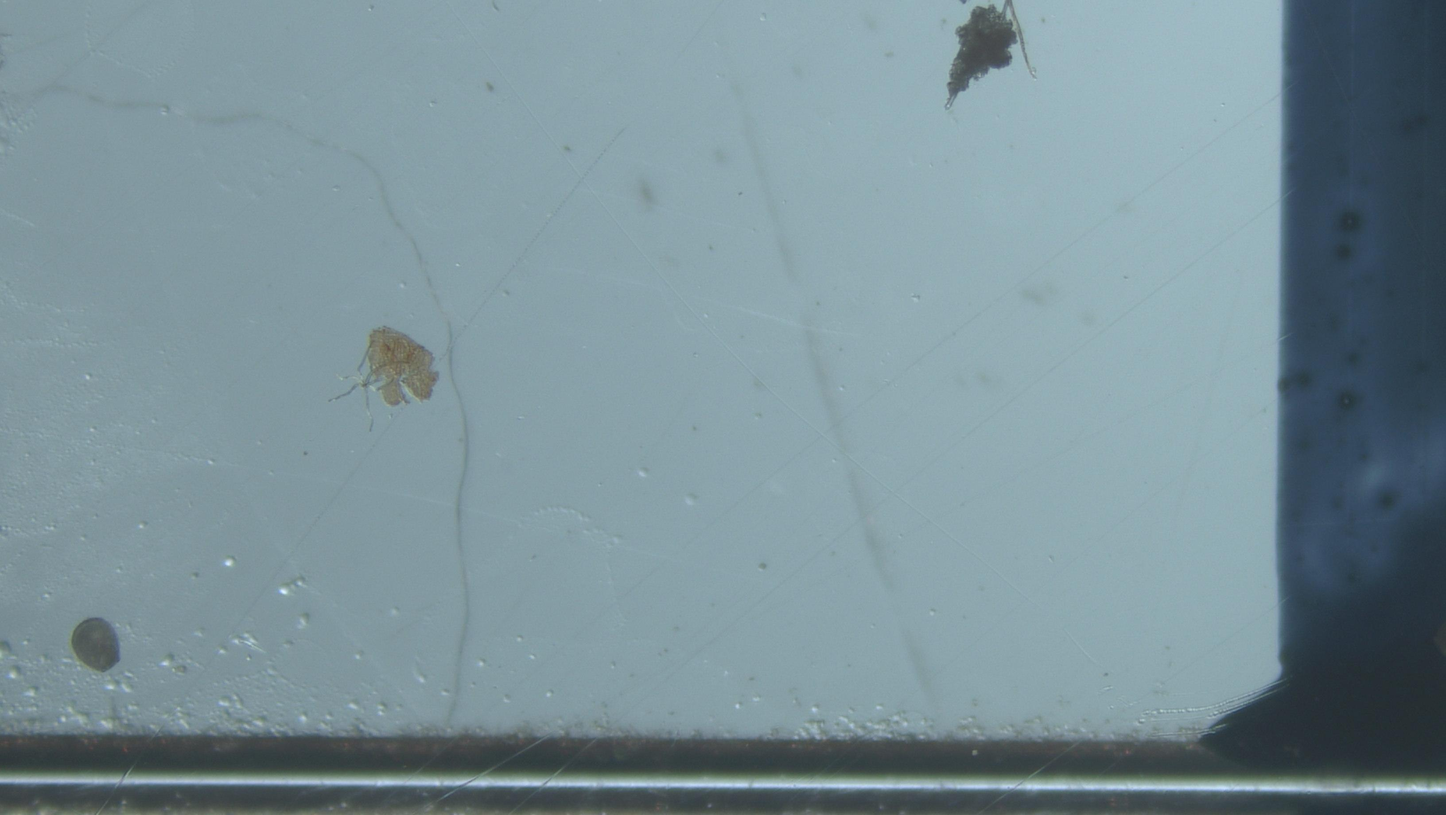live: (71, 618, 120, 672)
